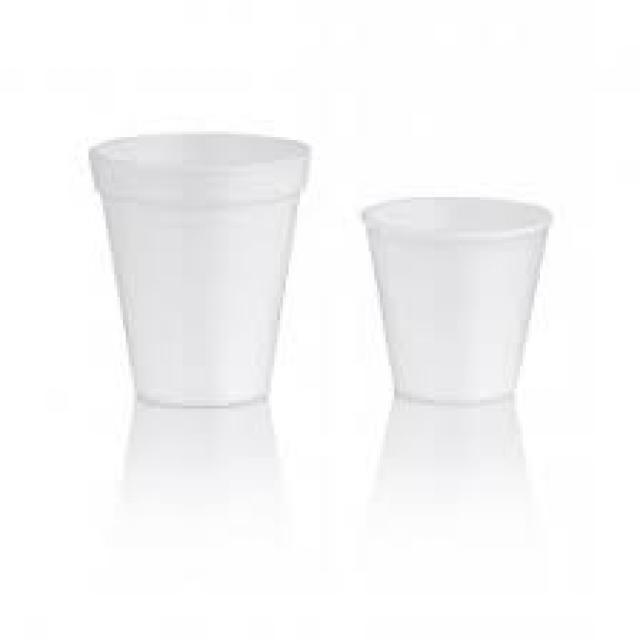trash: (86, 128, 306, 404), (360, 194, 546, 406)
